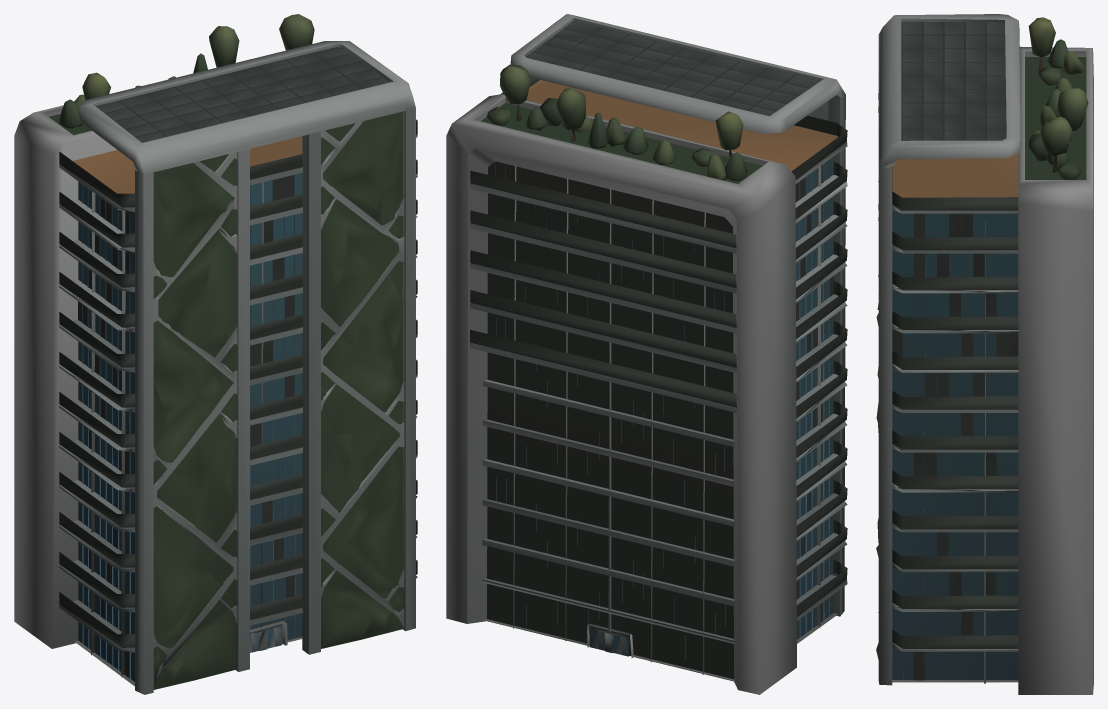
The model's file is ct_bld_grid.glb.
3 views of the same model, side by side, from view 1: azimuth 30°, elevation 25°; view 2: azimuth 150°, elevation 25°; view 3: azimuth 270°, elevation 25° (orthographic).
Visible parts, largest first — view 1: ct_bld_grid; view 2: ct_bld_grid; view 3: ct_bld_grid.
Part boxes in pixels (x1,y1,x2,y2): ct_bld_grid: [14, 14, 417, 694]; ct_bld_grid: [446, 14, 847, 694]; ct_bld_grid: [876, 14, 1093, 694].
Size of the model in its own units: 15.37 by 25.82 by 9.24.
